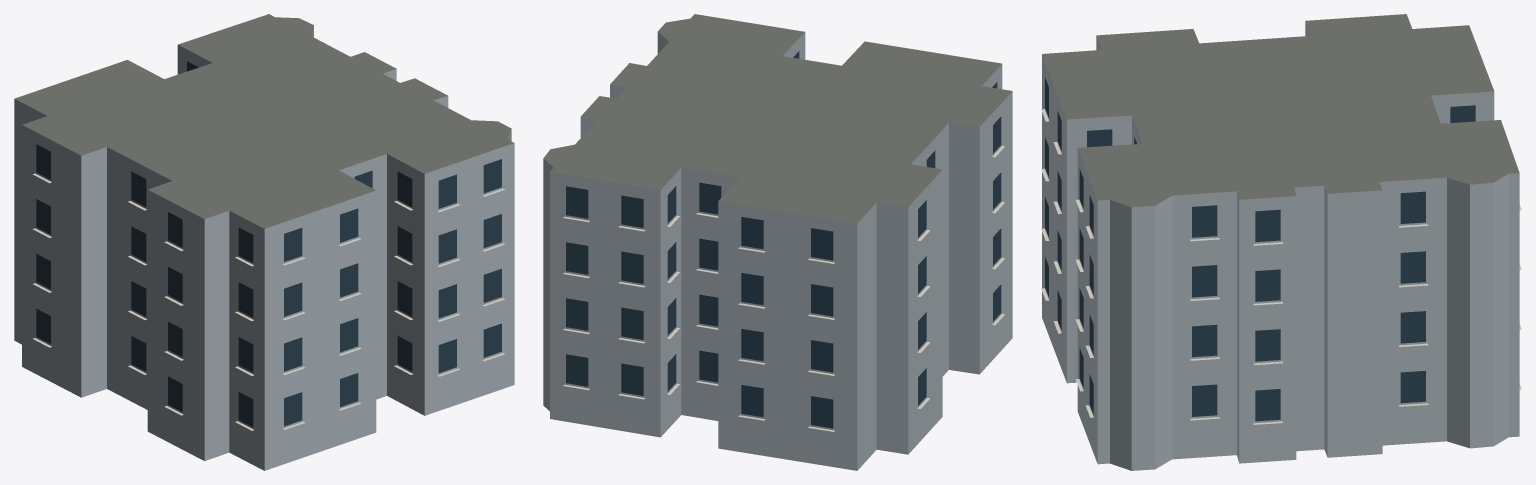
3 views of the same model, side by side, from view 1: azimuth 30°, elevation 25°; view 2: azimuth 150°, elevation 25°; view 3: azimuth 270°, elevation 25° (orthographic). The views are drawn at different scales.
Visible parts, largest first — view 1: Footprint 0, Inferred window bays, Window sills; view 2: Footprint 0, Inferred window bays, Window sills; view 3: Footprint 0, Inferred window bays, Window sills.
Boxes of the visible parts, x1,y1,x2,y2 form: Footprint 0: (14,14,514,470); Inferred window bays: (36,61,501,427); Window sills: (33,173,504,430); Footprint 0: (543,14,1012,470); Inferred window bays: (566,51,1001,428); Window sills: (563,146,1004,431); Footprint 0: (1042,14,1519,470); Inferred window bays: (1045,77,1475,421); Window sills: (1041,109,1521,424).
Bounding box in the file's own units: 22.22 × 14.11 × 23.31.
